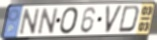6: (79, 6, 97, 35)
D: (117, 5, 141, 34)
N: (18, 7, 41, 36), (37, 7, 60, 36)
O: (59, 6, 80, 35)
V: (104, 5, 124, 35)
